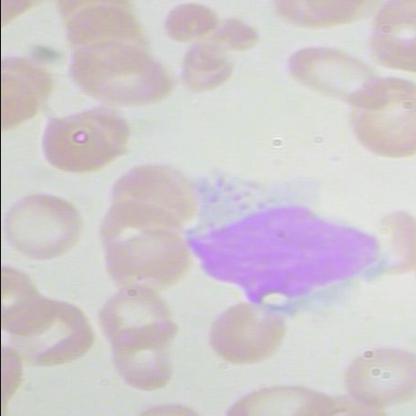RBC: (274, 39, 386, 115), (31, 100, 142, 176), (1, 291, 101, 371), (62, 50, 171, 112), (1, 188, 81, 263), (203, 298, 284, 372), (336, 338, 415, 412), (343, 88, 415, 162), (97, 286, 175, 350), (103, 325, 174, 391), (222, 379, 338, 415)
WBC: (182, 162, 386, 326)
